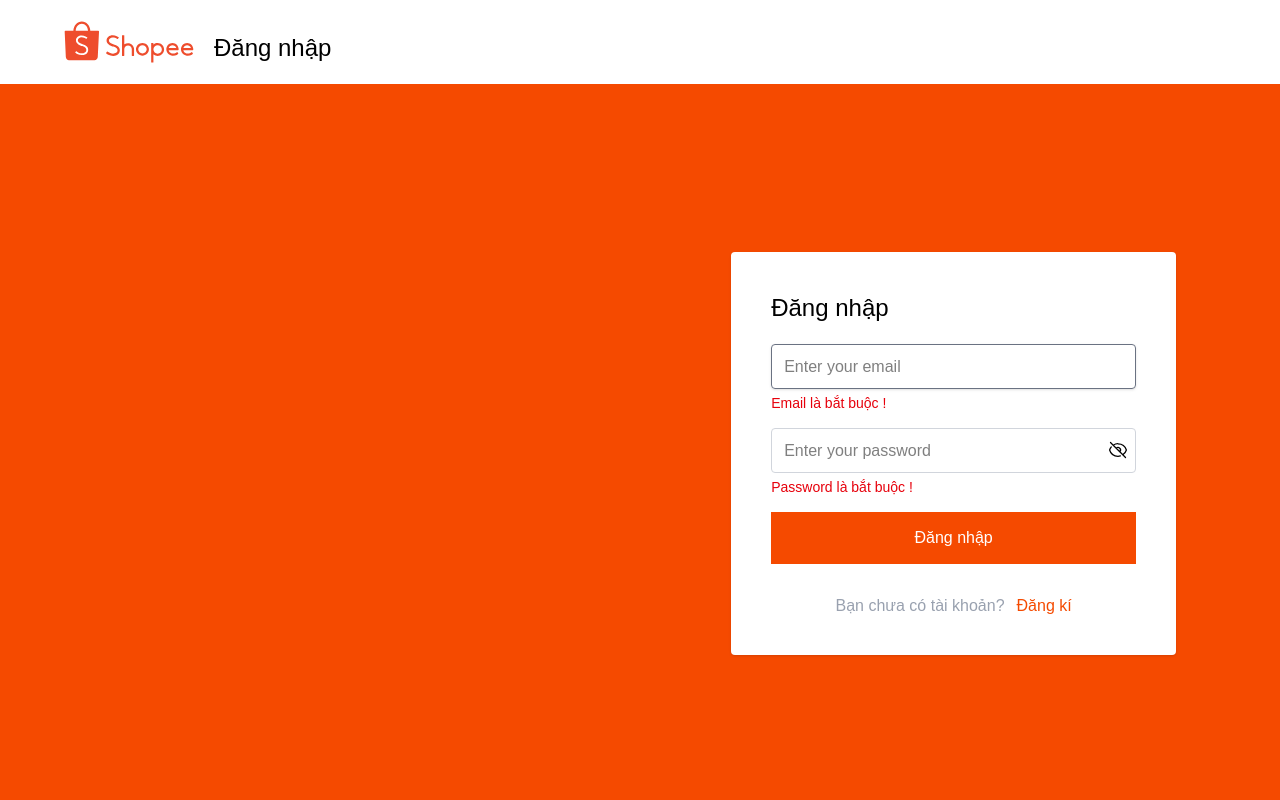
it: Test Login Page › Enter email and password in incorrect format
Type "test@gml" into the field with placeholder "Enter your email". click: (954, 367)
box: [771,344,1136,389]
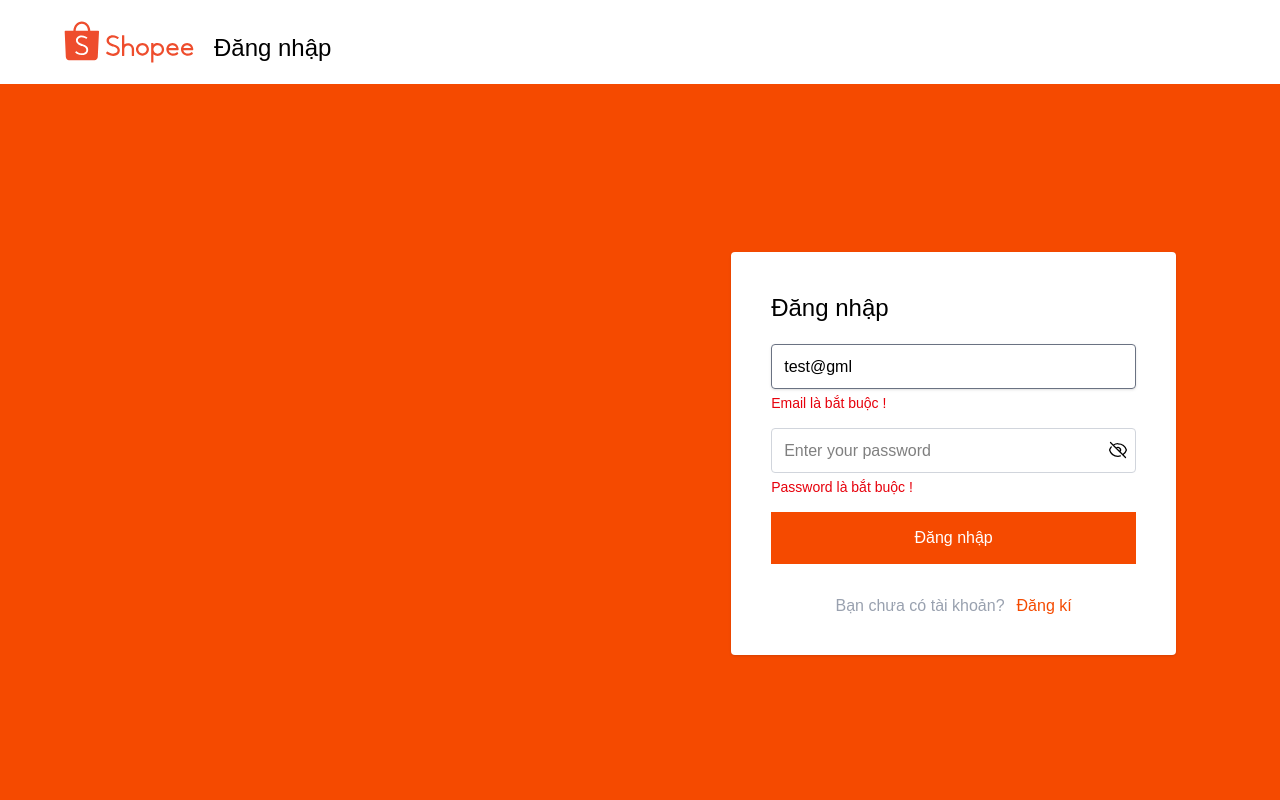
Type "12" into the password field with placeholder "Enter your password". click: (954, 451)
box: [771,428,1136,473]
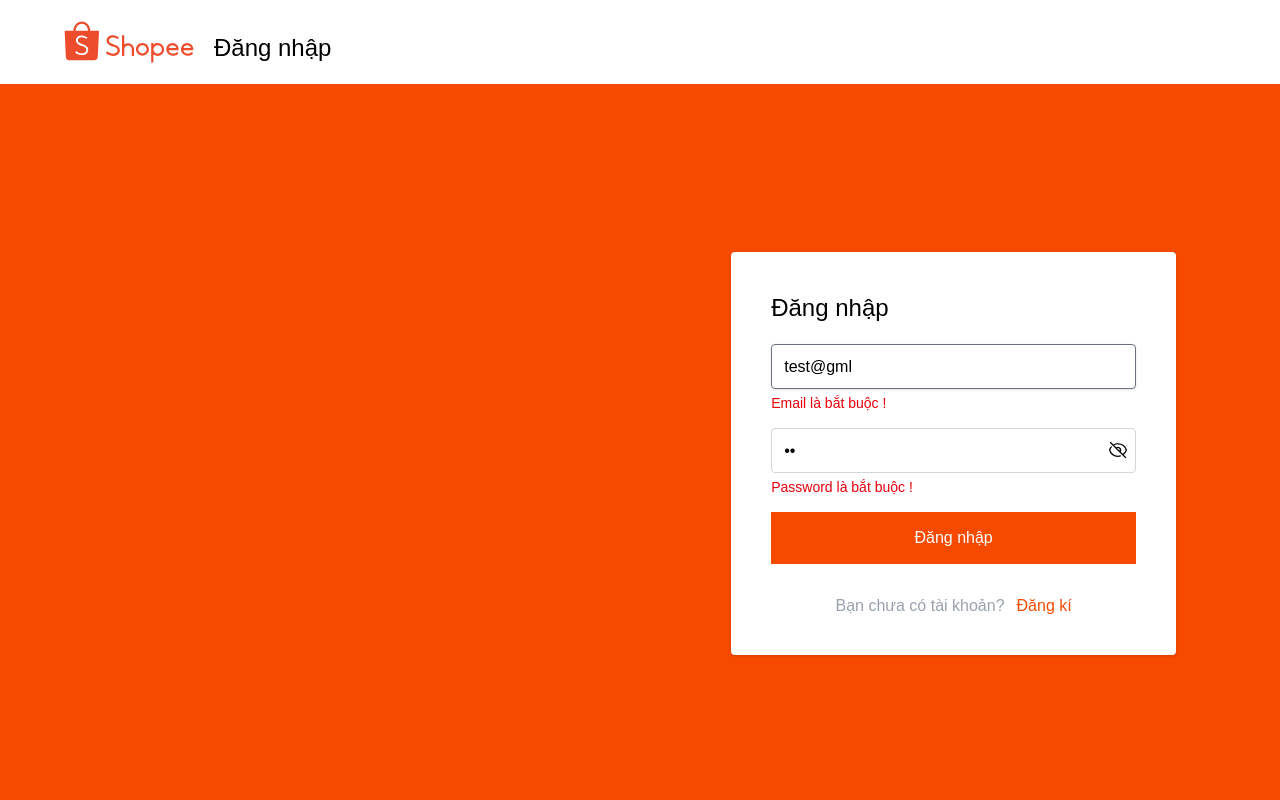
Submit the form from the submit button, box [771,512,1136,564]
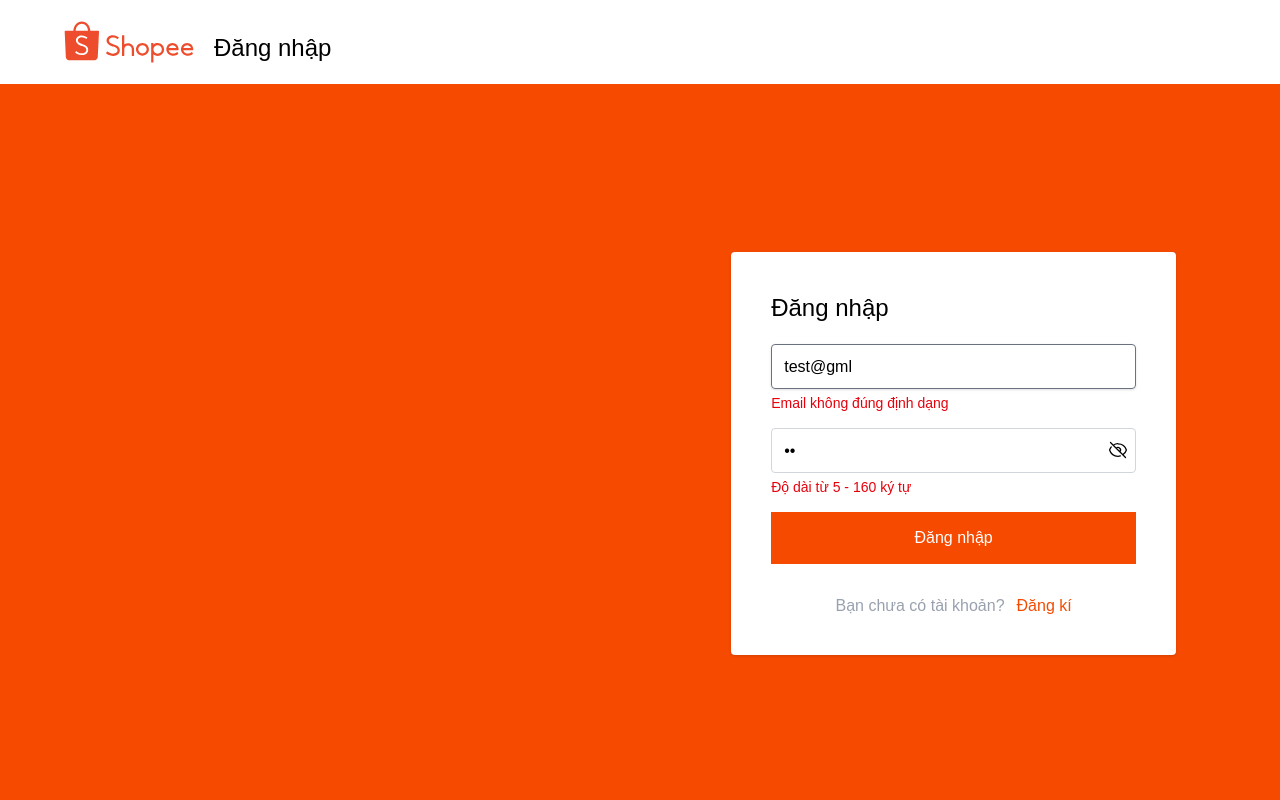
Expected: the text "Email là bắt buộc !" is shown, [771,395,949,411]
Expected: the text "Độ dài từ 5 - 160 ký tự" is shown, [771,479,911,495]
